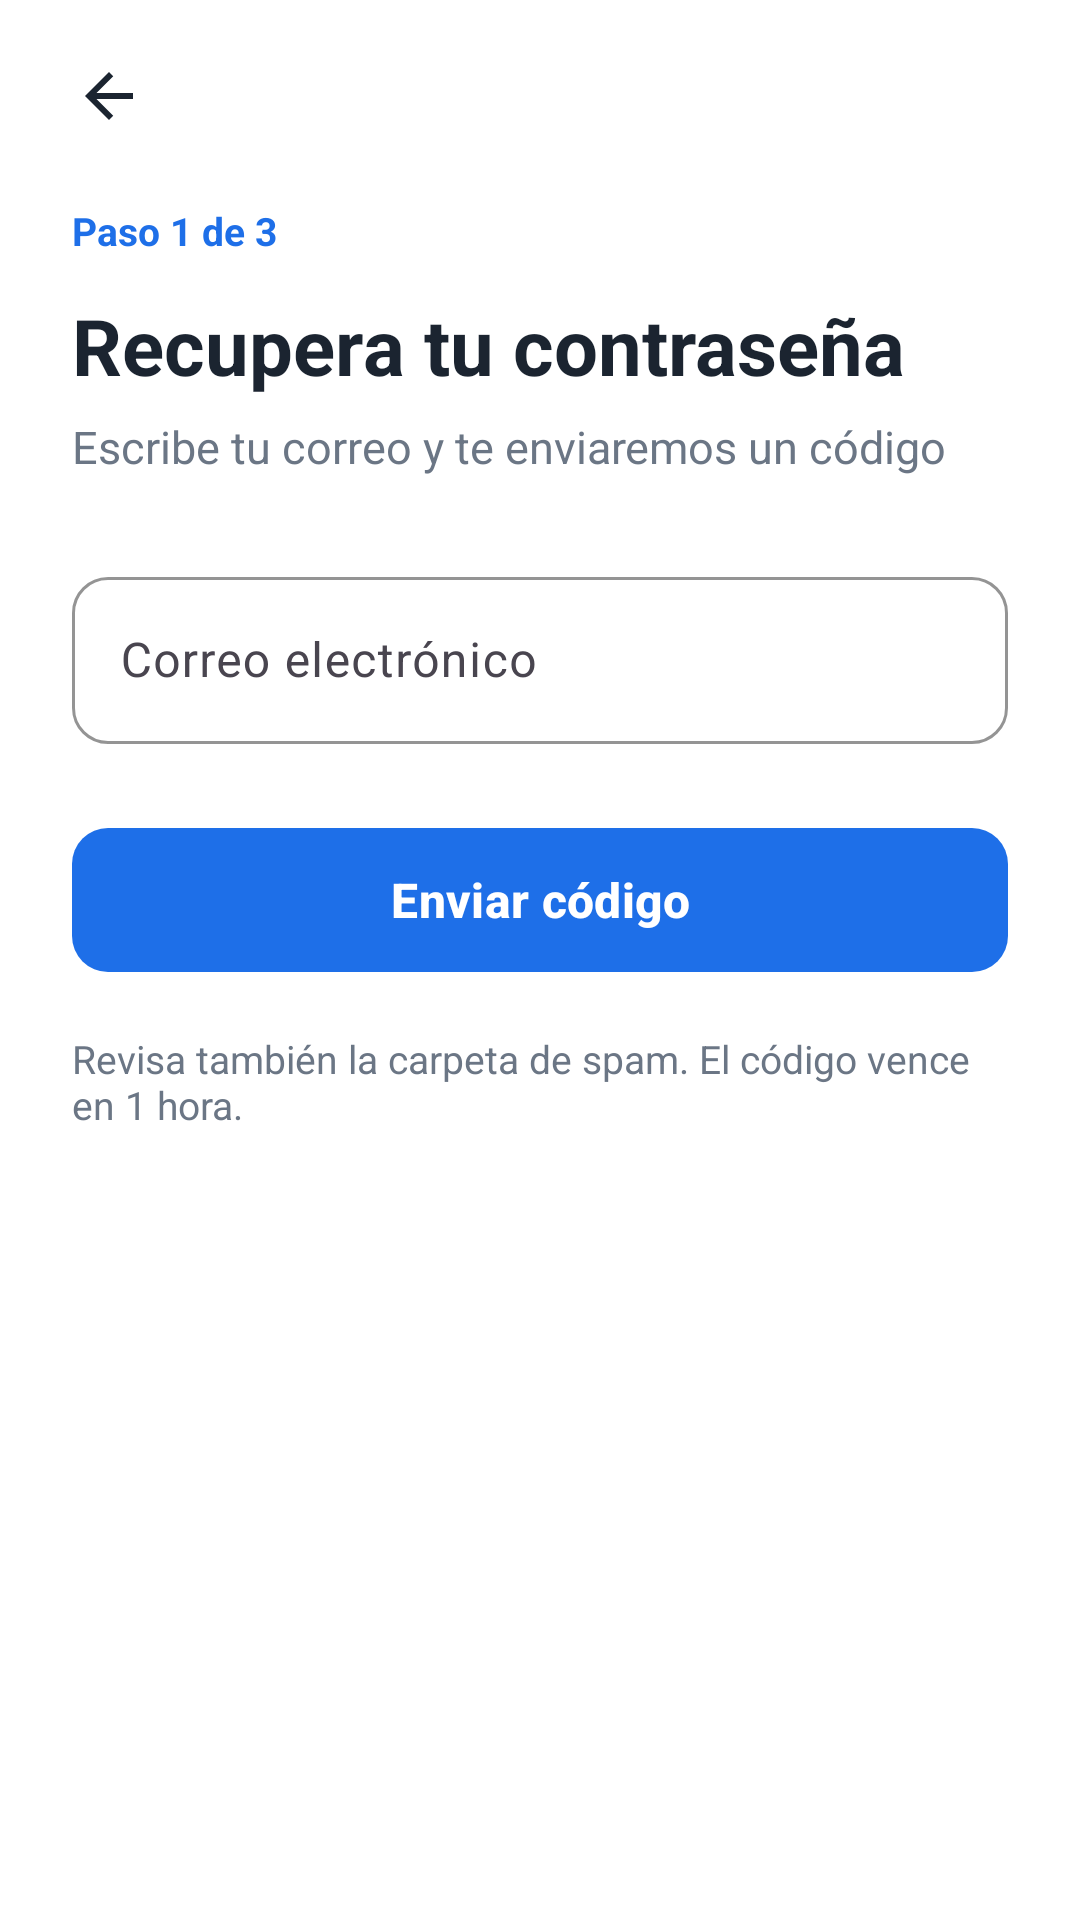

Icon click points for this 1080px×1920px phone screenshot, format [x,y]:
Volver: [109,96]
